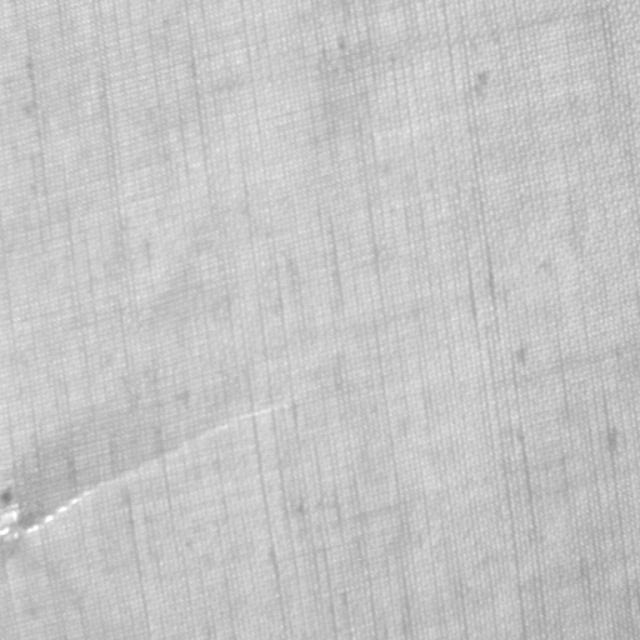hole: (0, 391, 293, 545)
